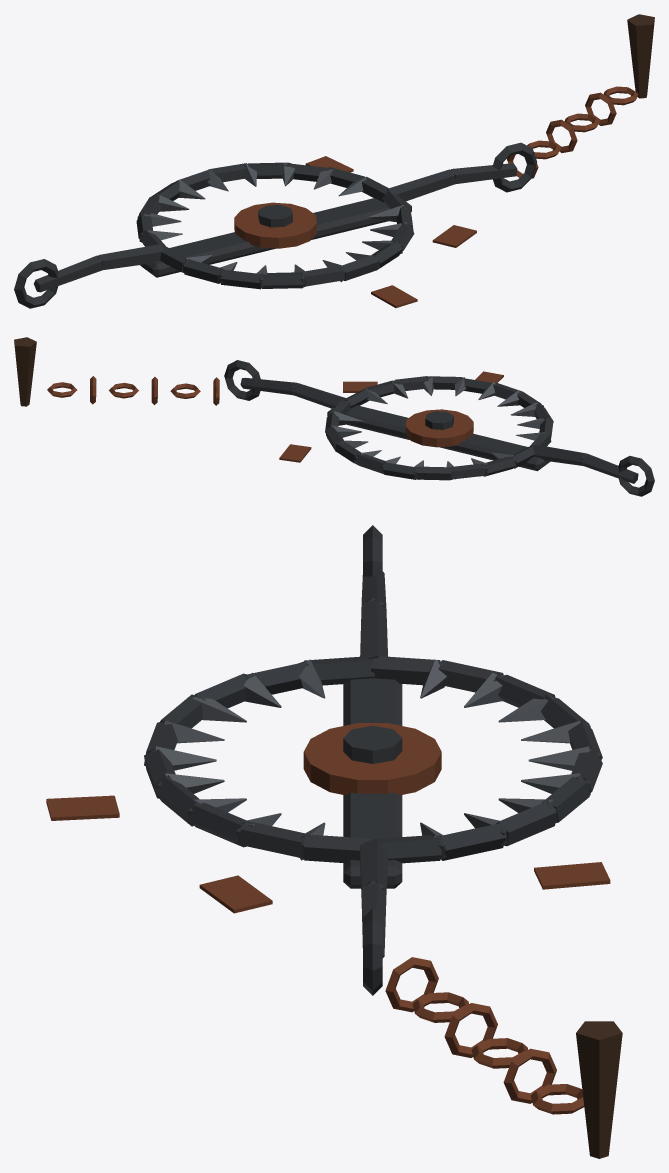
The model's file is bear_trap.glb.
3 renders of one model, top to bottom at view 1: azimuth 30°, elevation 25°; view 2: azimuth 150°, elevation 25°; view 3: azimuth 270°, elevation 25°, orthographic. The views are drawn at different scales.
Visible parts, largest first — view 1: TrapBase, JawB, JawA; view 2: TrapBase, JawA, JawB; view 3: TrapBase, JawA, JawB.
Part boxes in pixels (box(x1,y1,x2,y2)): TrapBase: box(14, 14, 654, 308); JawB: box(160, 190, 414, 289); JawA: box(136, 162, 388, 246); TrapBase: box(14, 337, 654, 496); JawA: box(325, 400, 534, 480); JawB: box(346, 376, 553, 446); TrapBase: box(46, 525, 622, 1158); JawA: box(371, 656, 602, 863); JawB: box(144, 656, 374, 863).
Bounding box in the file's own units: 1.37 × 0.14 × 0.5852.
